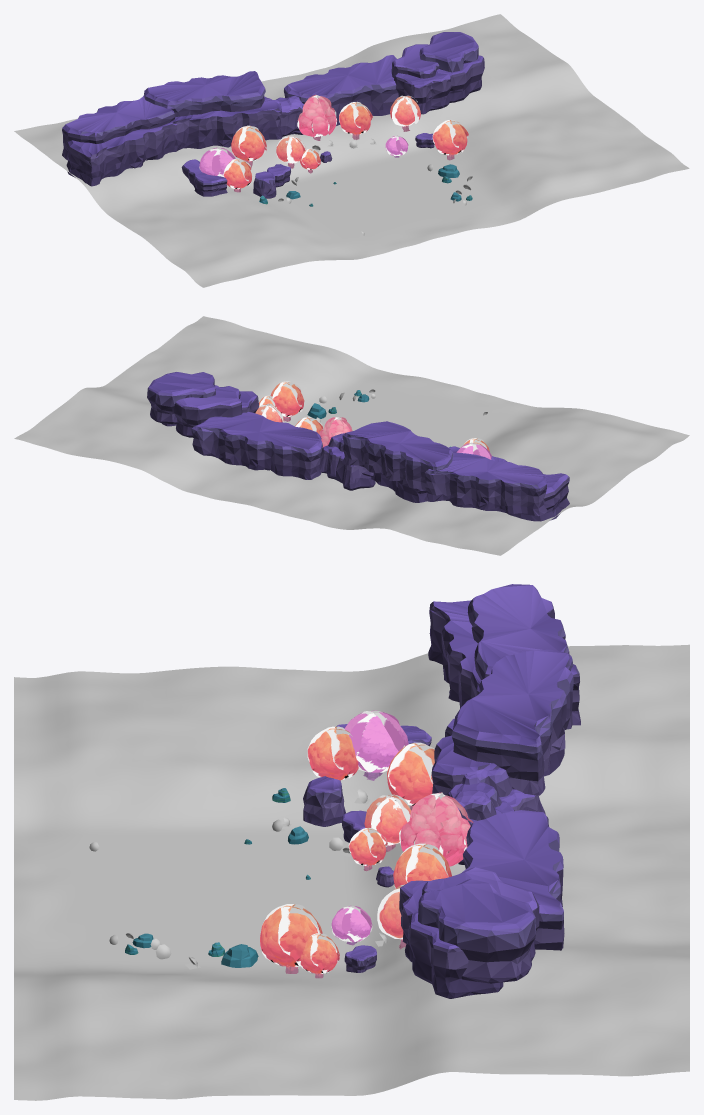
Rendered from mystic_arena.glb.
3 renders of one model, top to bottom at view 1: azimuth 30°, elevation 25°; view 2: azimuth 150°, elevation 25°; view 3: azimuth 270°, elevation 25°, orthographic. The views are drawn at different scales.
Parts seen in each view (by area): view 1: G_mystic_Ground, P_mystic_00_mesa_wide, P_mystic_03_mesa_a, P_mystic_02_ridge, P_mystic_04_tree_c, P_mystic_36_tree_a, P_mystic_06_tree_a, P_mystic_13_ridge, P_mystic_05_tree_a, P_mystic_07_tree_b, P_mystic_01_mesa_b, P_mystic_08_tree_d (+3 smaller); view 2: G_mystic_Ground, P_mystic_00_mesa_wide, P_mystic_02_ridge, P_mystic_03_mesa_a, P_mystic_01_mesa_b, P_mystic_36_tree_a, P_mystic_04_tree_c; view 3: G_mystic_Ground, P_mystic_00_mesa_wide, P_mystic_03_mesa_a, P_mystic_02_ridge, P_mystic_04_tree_c, P_mystic_01_mesa_b, P_mystic_08_tree_d, P_mystic_36_tree_a, P_mystic_06_tree_a, P_mystic_20_tree_a, P_mystic_15_butte, P_mystic_05_tree_a (+5 smaller).
Boxes of the visible parts, x1,y1,x2,y2 form: G_mystic_Ground: [14, 14, 689, 287]; P_mystic_00_mesa_wide: [62, 71, 282, 186]; P_mystic_03_mesa_a: [391, 32, 484, 114]; P_mystic_02_ridge: [284, 55, 398, 125]; P_mystic_04_tree_c: [297, 94, 337, 140]; P_mystic_36_tree_a: [432, 119, 468, 160]; P_mystic_06_tree_a: [231, 125, 266, 167]; P_mystic_13_ridge: [181, 159, 227, 196]; P_mystic_05_tree_a: [339, 101, 372, 139]; P_mystic_07_tree_b: [390, 95, 420, 131]; P_mystic_01_mesa_b: [264, 96, 303, 136]; P_mystic_08_tree_d: [199, 147, 235, 176]; G_mystic_Ground: [14, 316, 689, 555]; P_mystic_00_mesa_wide: [342, 421, 569, 521]; P_mystic_02_ridge: [191, 412, 322, 479]; P_mystic_03_mesa_a: [147, 372, 259, 437]; P_mystic_01_mesa_b: [320, 433, 375, 490]; P_mystic_36_tree_a: [270, 381, 304, 421]; P_mystic_04_tree_c: [319, 417, 352, 447]; G_mystic_Ground: [14, 644, 689, 1100]; P_mystic_00_mesa_wide: [428, 584, 580, 795]; P_mystic_03_mesa_a: [399, 867, 539, 998]; P_mystic_02_ridge: [462, 810, 564, 950]; P_mystic_04_tree_c: [399, 792, 473, 866]; P_mystic_01_mesa_b: [448, 768, 548, 864]; P_mystic_08_tree_d: [344, 710, 408, 780]; P_mystic_36_tree_a: [260, 904, 322, 973]; P_mystic_06_tree_a: [387, 742, 434, 810]; P_mystic_20_tree_a: [307, 726, 358, 781]; P_mystic_15_butte: [303, 776, 345, 826]; P_mystic_05_tree_a: [393, 843, 451, 888].
Bounding box in the file's own units: 92.08 × 13.07 × 62.
